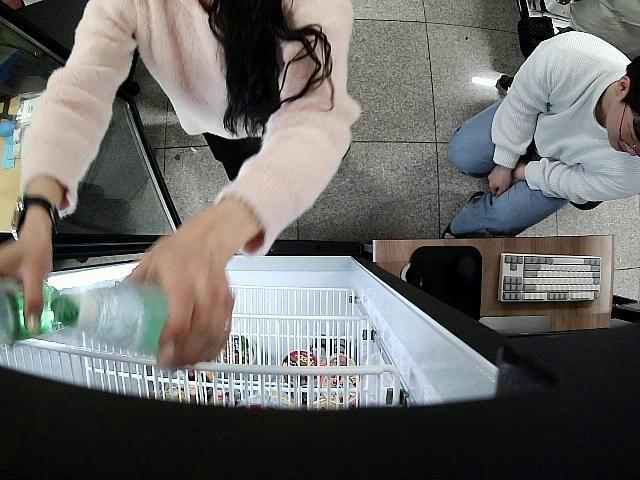18_trevi: (54, 278, 166, 355), (0, 278, 61, 349)
